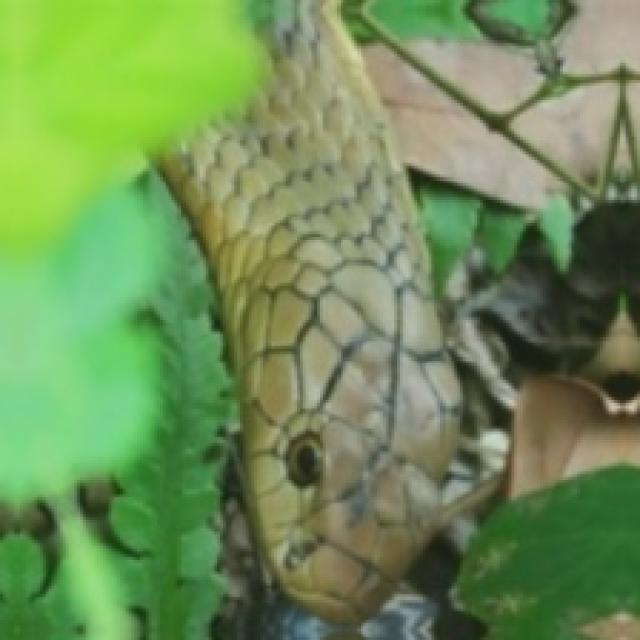king cobra: (160, 0, 460, 620)
